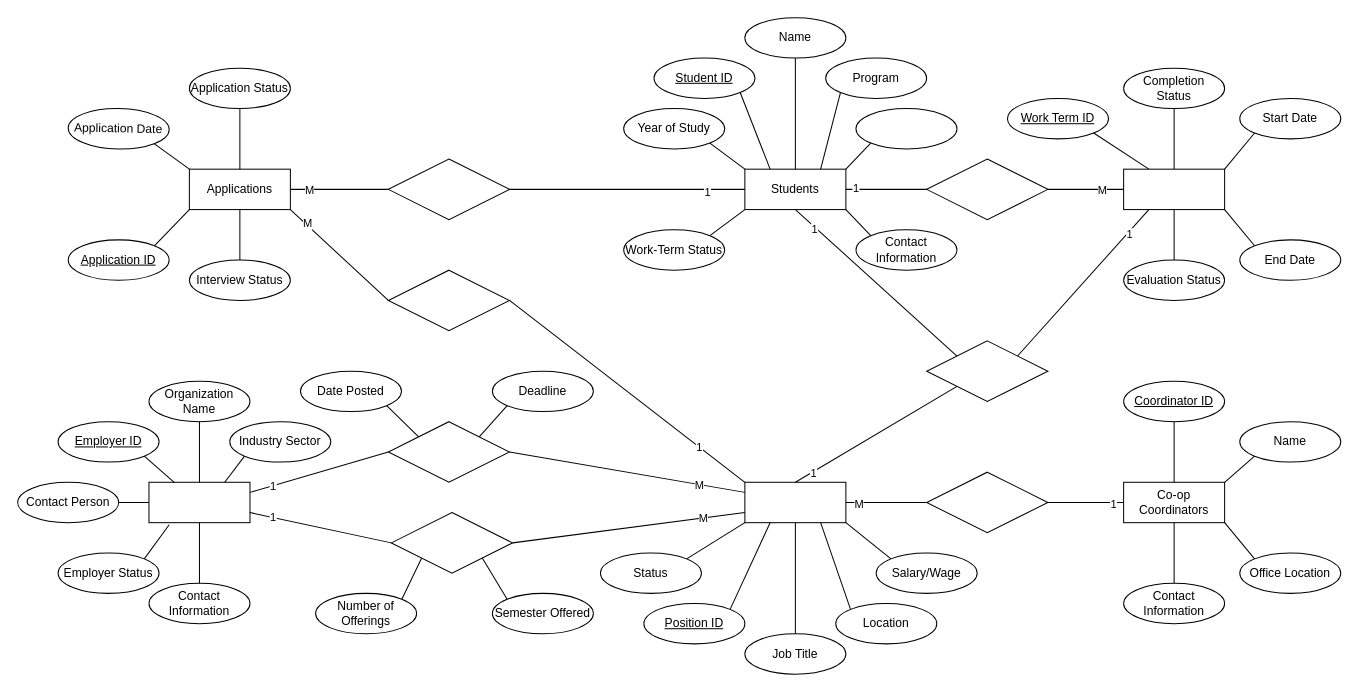
The diagram is 1358 pixels wide and 692 high, and some of its shapes have lost their labels. The shapes that lost their labels are listed below. From the top down, each one's centre as x and y in pixels, then its label:
At (x=906, y=128): "GPA".
At (x=448, y=189): "Submit".
At (x=987, y=189): "Complete".
At (x=1174, y=189): "Work Terms".
At (x=448, y=300): "Receive".
At (x=987, y=370): "Matched".
At (x=448, y=451): "Advertise".
At (x=199, y=502): "Employers".
At (x=795, y=502): "Positions".
At (x=987, y=502): "Approve".
At (x=451, y=542): "Offers".
